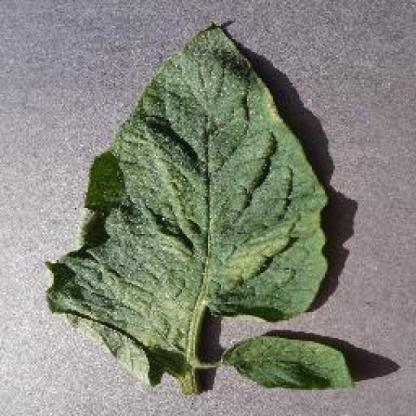Tomato_Spider_Mites: (46, 24, 354, 389)
